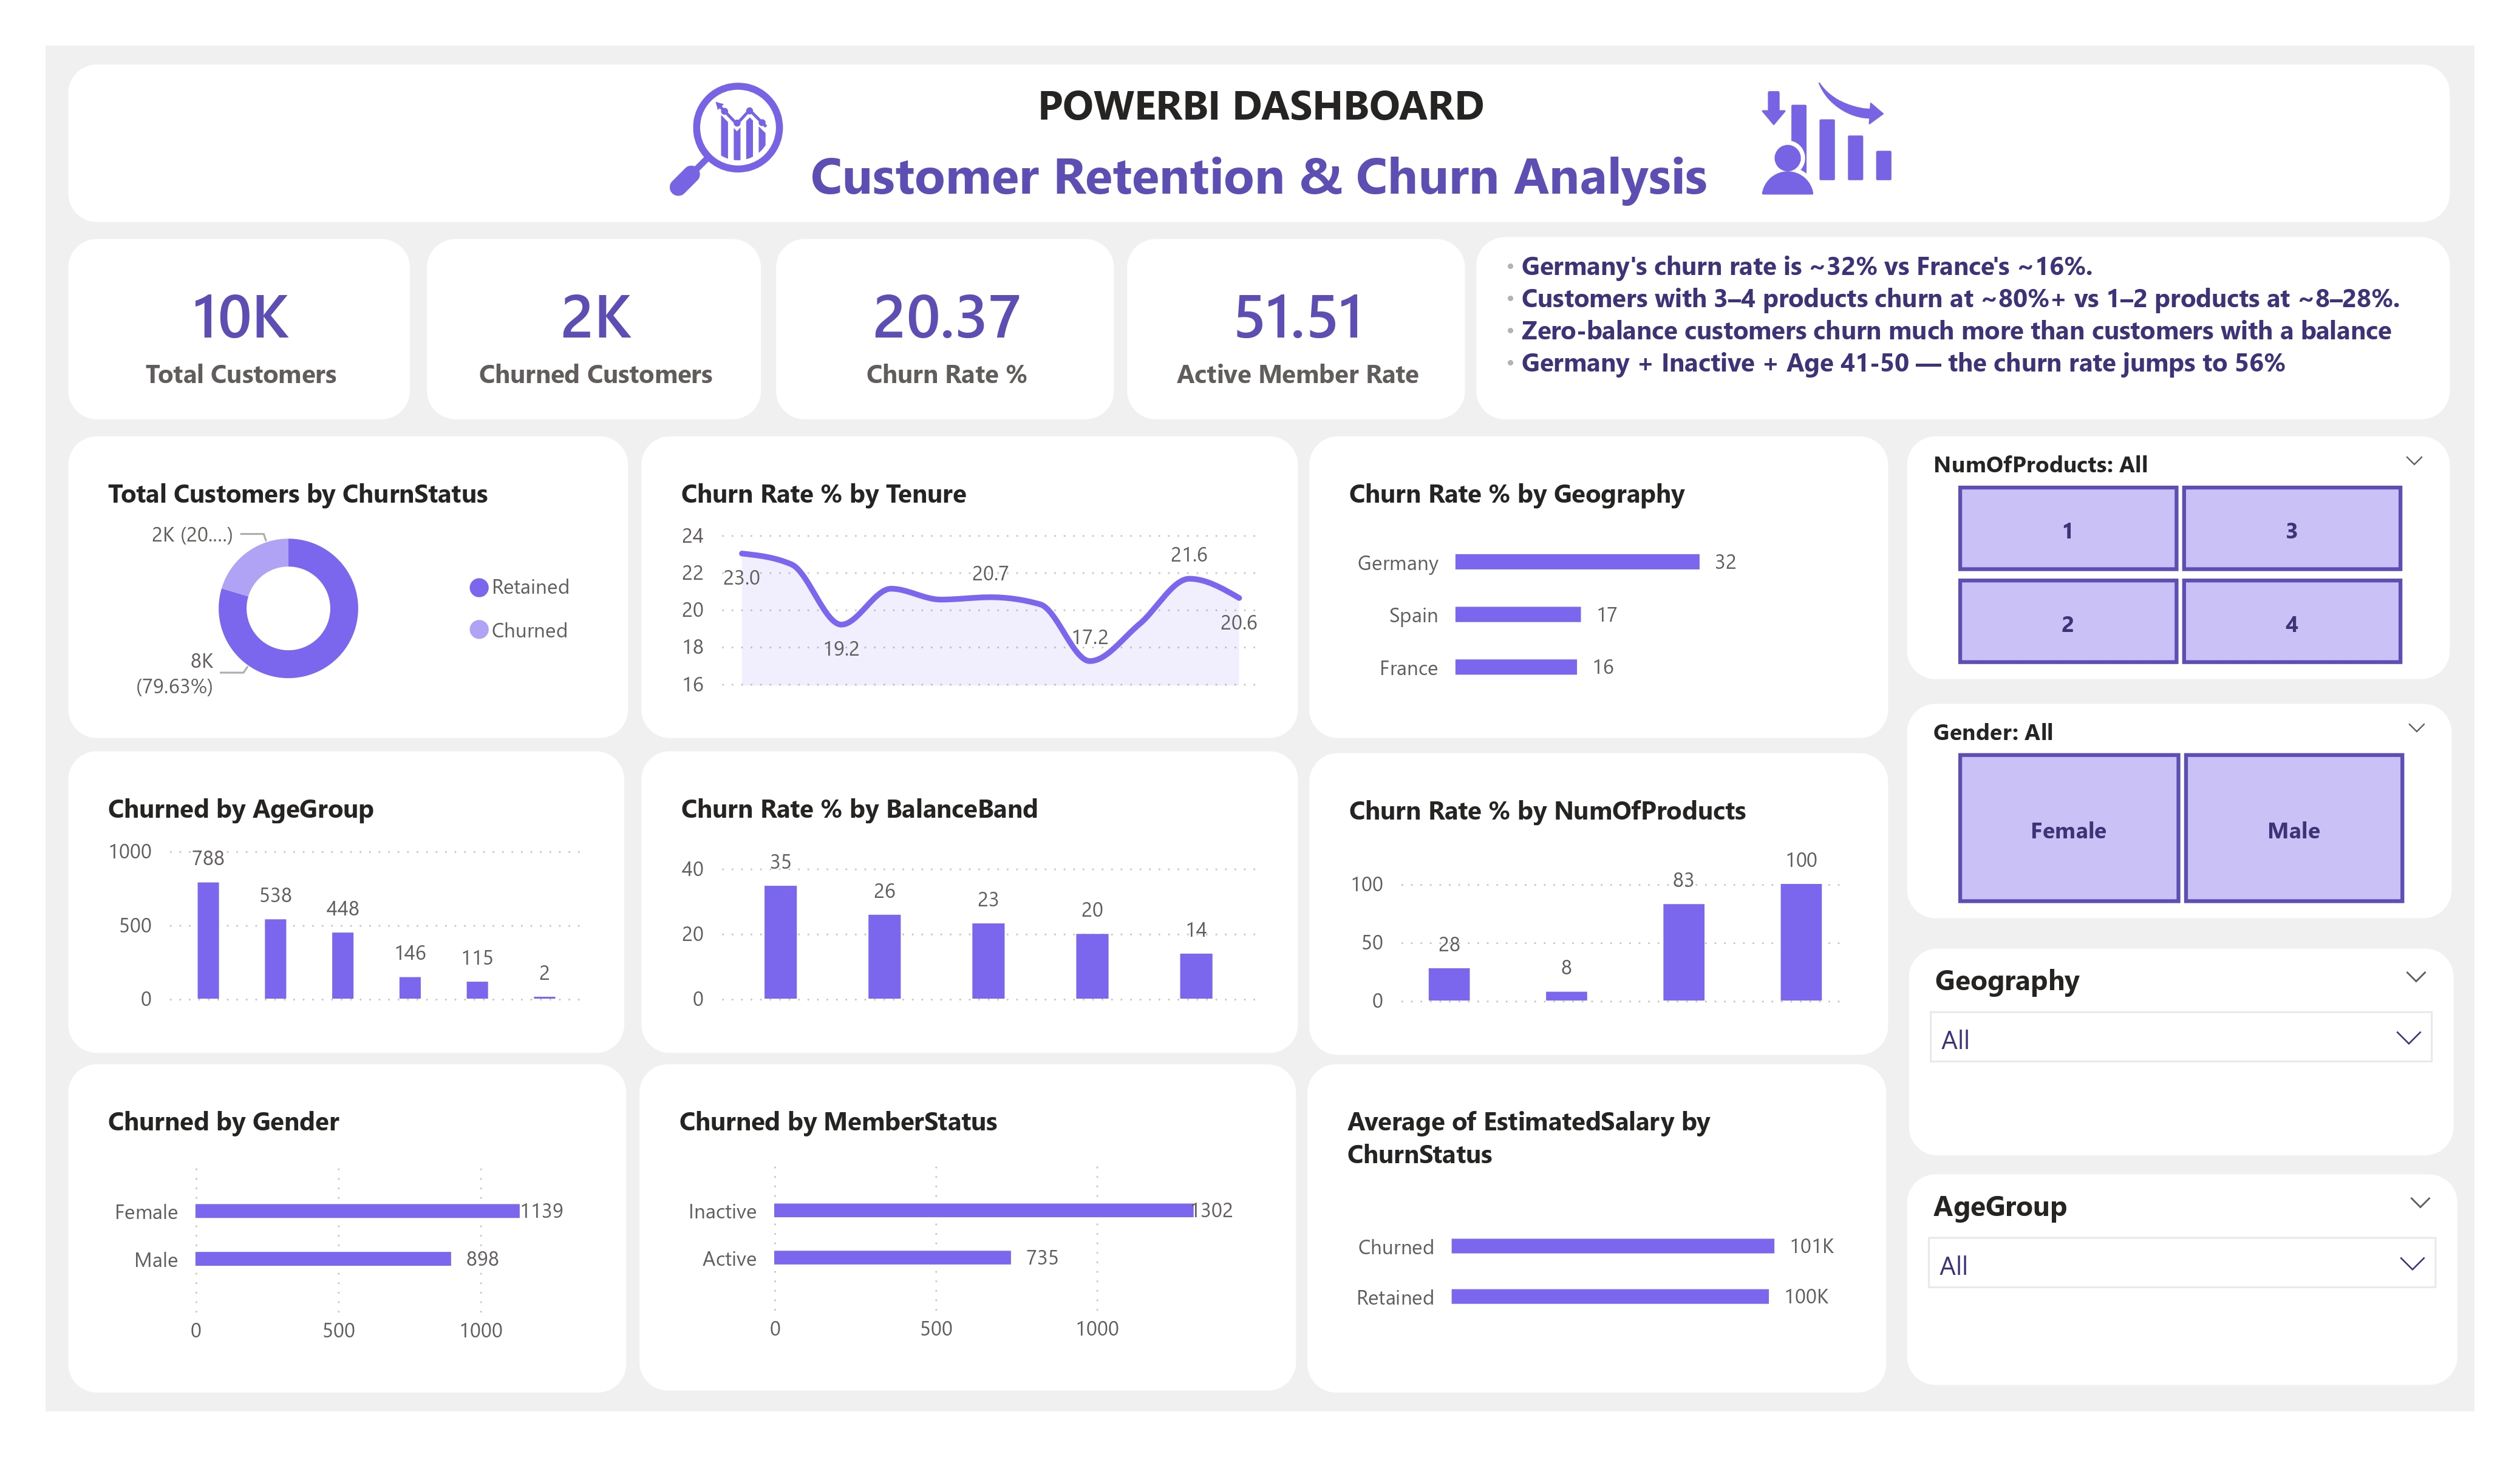

This screenshot's page, from the dashboard's own definition file:
{"tool":"powerbi","page":{"name":"KPI","canvas":[1280,720],"ordinal":0},"visuals":[{"type":"cardVisual","fields":{"Data":["_Measures.Total Customers"]},"box":[12.2,102,179.8,95.4],"z":0},{"type":"cardVisual","fields":{"Data":["_Measures.Churned"]},"box":[200.5,102,176.1,95.4],"z":1000},{"type":"cardVisual","fields":{"Data":["_Measures.Active Rate %"]},"box":[569.8,102,178.5,95.4],"z":2000},{"type":"cardVisual","fields":{"Data":["_Measures.Churn Rate %"]},"box":[385.2,102,177.3,95.4],"z":3000},{"type":"donutChart","fields":{"Category":["Churn_Modelling_Enhanced.ChurnStatus"],"Y":["_Measures.Total Customers"]},"box":[12.2,205.9,294.7,159],"z":4000},{"type":"clusteredBarChart","fields":{"Category":["Churn_Modelling_Enhanced.Geography"],"Y":["_Measures.Churn Rate %"]},"box":[666.2,206.2,304.5,159],"z":5000},{"type":"clusteredBarChart","fields":{"Category":["Churn_Modelling_Enhanced.Gender"],"Y":["_Measures.Churned"]},"box":[12.2,537.3,293.5,172.4],"z":6000},{"type":"clusteredColumnChart","fields":{"Category":["Churn_Modelling_Enhanced.AgeGroup"],"Y":["_Measures.Churned"]},"box":[12,372.5,293.5,159],"z":7000},{"type":"clusteredColumnChart","fields":{"Category":["Churn_Modelling_Enhanced.NumOfProducts"],"Y":["_Measures.Churn Rate %"]},"box":[666.2,372.7,304.5,159],"z":8000},{"type":"clusteredBarChart","fields":{"Category":["Churn_Modelling_Enhanced.MemberStatus"],"Y":["_Measures.Churned"]},"box":[313,536.8,346.1,172.4],"z":9000},{"type":"textbox","box":[754.5,101.5,512.4,95.4],"z":10000},{"type":"clusteredColumnChart","fields":{"Category":["Churn_Modelling_Enhanced.BalanceBand"],"Y":["_Measures.Churn Rate %"]},"box":[314,372.5,346.1,159],"z":11000},{"type":"lineChart","fields":{"Category":["Churn_Modelling_Enhanced.Tenure"],"Y":["_Measures.Churn Rate %"]},"box":[314,206.2,346.1,159],"z":12000},{"type":"clusteredBarChart","fields":{"Category":["Churn_Modelling_Enhanced.ChurnStatus"],"Y":["Avg(Churn_Modelling_Enhanced.EstimatedSalary)"]},"box":[665.2,537.3,304.5,172.4],"z":13000},{"type":"slicer","fields":{"Values":["Churn_Modelling_Enhanced.Geography"]},"box":[981.9,476.2,287.4,108.8],"z":14000},{"type":"slicer","fields":{"Values":["Churn_Modelling_Enhanced.Gender"]},"box":[980.7,346.6,287.4,113.7],"z":15000},{"type":"slicer","fields":{"Values":["Churn_Modelling_Enhanced.AgeGroup"]},"box":[980.7,594.8,289.8,111.3],"z":16000},{"type":"slicer","fields":{"Values":["Churn_Modelling_Enhanced.NumOfProducts"]},"box":[980.7,205.9,286.1,128.4],"z":17000},{"type":"textbox","title":"POWERBI DASHBOARD","box":[12.2,9.8,1254.6,83.2],"z":18000},{"type":"image","box":[314.4,17.8,87.8,63.3],"z":18001},{"type":"image","box":[884.4,17.8,108.9,62.2],"z":18002}]}

Visuals, with their boxes on the page's 1280x720 design canvas (x1, y1, x2, y2). These are canvas units, not pixel positions in the 2520x1457 screenshot, which may show the page scaled, cropped or inside an application window:
cardVisual - _Measures.Total Customers: (12, 102, 192, 197)
cardVisual - _Measures.Churned: (200, 102, 377, 197)
cardVisual - _Measures.Active Rate %: (570, 102, 748, 197)
cardVisual - _Measures.Churn Rate %: (385, 102, 562, 197)
donutChart - Churn_Modelling_Enhanced.ChurnStatus x _Measures.Total Customers: (12, 206, 307, 365)
clusteredBarChart - Churn_Modelling_Enhanced.Geography x _Measures.Churn Rate %: (666, 206, 971, 365)
clusteredBarChart - Churn_Modelling_Enhanced.Gender x _Measures.Churned: (12, 537, 306, 710)
clusteredColumnChart - Churn_Modelling_Enhanced.AgeGroup x _Measures.Churned: (12, 372, 306, 532)
clusteredColumnChart - Churn_Modelling_Enhanced.NumOfProducts x _Measures.Churn Rate %: (666, 373, 971, 532)
clusteredBarChart - Churn_Modelling_Enhanced.MemberStatus x _Measures.Churned: (313, 537, 659, 709)
textbox: (754, 102, 1267, 197)
clusteredColumnChart - Churn_Modelling_Enhanced.BalanceBand x _Measures.Churn Rate %: (314, 372, 660, 532)
lineChart - Churn_Modelling_Enhanced.Tenure x _Measures.Churn Rate %: (314, 206, 660, 365)
clusteredBarChart - Churn_Modelling_Enhanced.ChurnStatus x Avg(Churn_Modelling_Enhanced.EstimatedSalary): (665, 537, 970, 710)
slicer - Churn_Modelling_Enhanced.Geography: (982, 476, 1269, 585)
slicer - Churn_Modelling_Enhanced.Gender: (981, 347, 1268, 460)
slicer - Churn_Modelling_Enhanced.AgeGroup: (981, 595, 1270, 706)
slicer - Churn_Modelling_Enhanced.NumOfProducts: (981, 206, 1267, 334)
"POWERBI DASHBOARD" textbox: (12, 10, 1267, 93)
image: (314, 18, 402, 81)
image: (884, 18, 993, 80)
